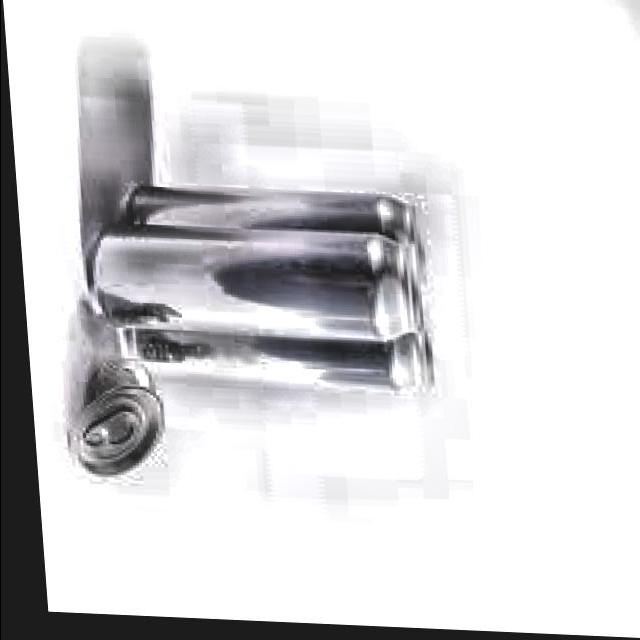litter: (69, 226, 418, 344), (112, 184, 426, 294), (112, 316, 433, 398), (59, 356, 160, 490)
